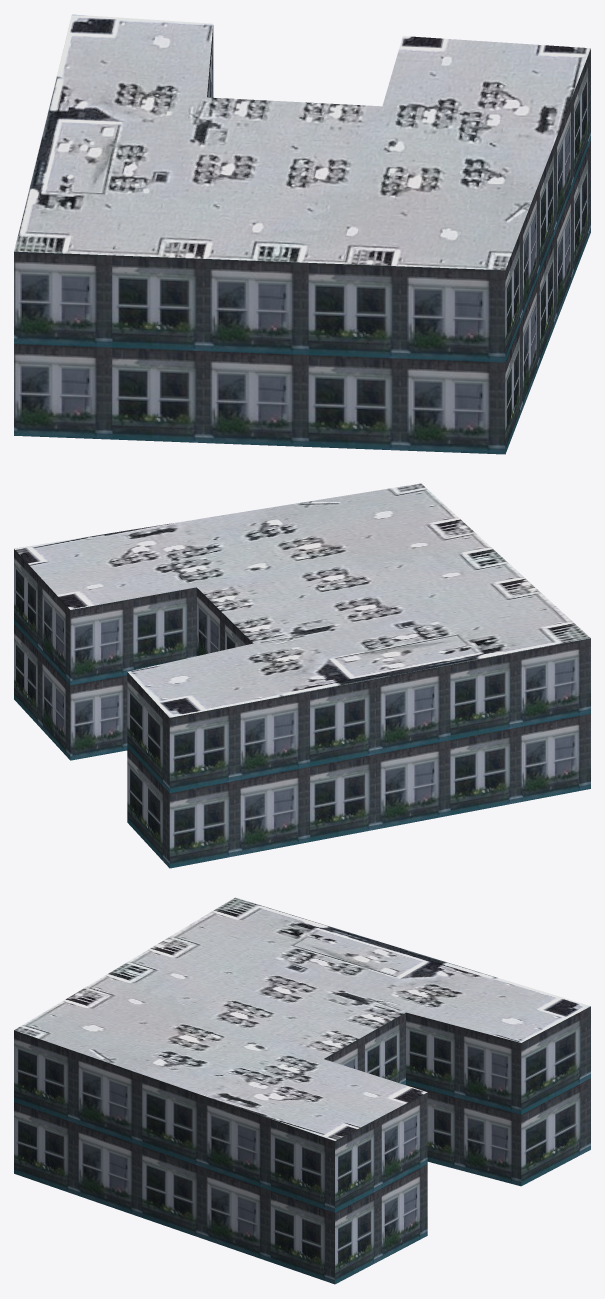
Rendered from ResTex__2962.fbx.
The picture shows the model from 3 angles, top to bottom: view 1: azimuth 30°, elevation 25°; view 2: azimuth 150°, elevation 25°; view 3: azimuth 270°, elevation 25°; orthographic projection. The views are drawn at different scales.
Visible parts, largest first — view 1: CityEngineMaterial_11_m, CityEngineMaterial_8_m; view 2: CityEngineMaterial_11_m, CityEngineMaterial_8_m; view 3: CityEngineMaterial_11_m, CityEngineMaterial_8_m.
Part boxes in pixels (x1,y1,x2,y2): CityEngineMaterial_11_m: (14,25,590,454); CityEngineMaterial_8_m: (14,14,590,270); CityEngineMaterial_11_m: (14,549,590,868); CityEngineMaterial_8_m: (14,483,590,717); CityEngineMaterial_11_m: (14,1006,590,1284); CityEngineMaterial_8_m: (14,897,590,1140).
Size of the model in its own units: 21.86 by 6 by 21.88.
Materials: 2 (2 with a texture image).
